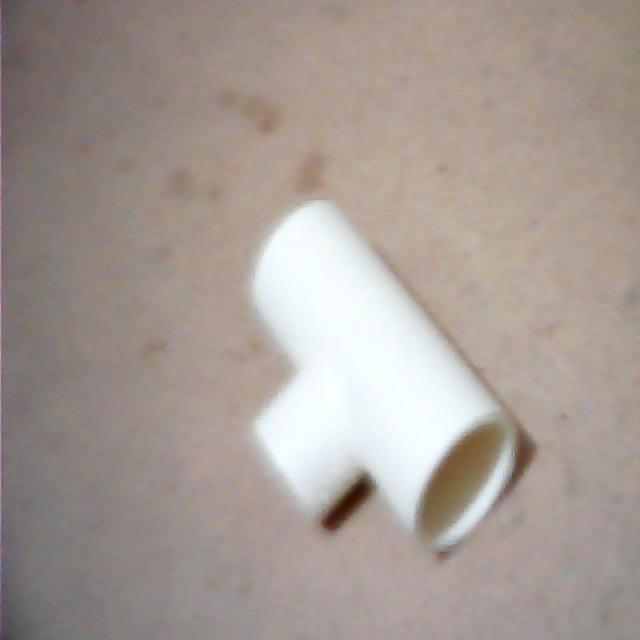T Joint: (248, 199, 535, 559)
